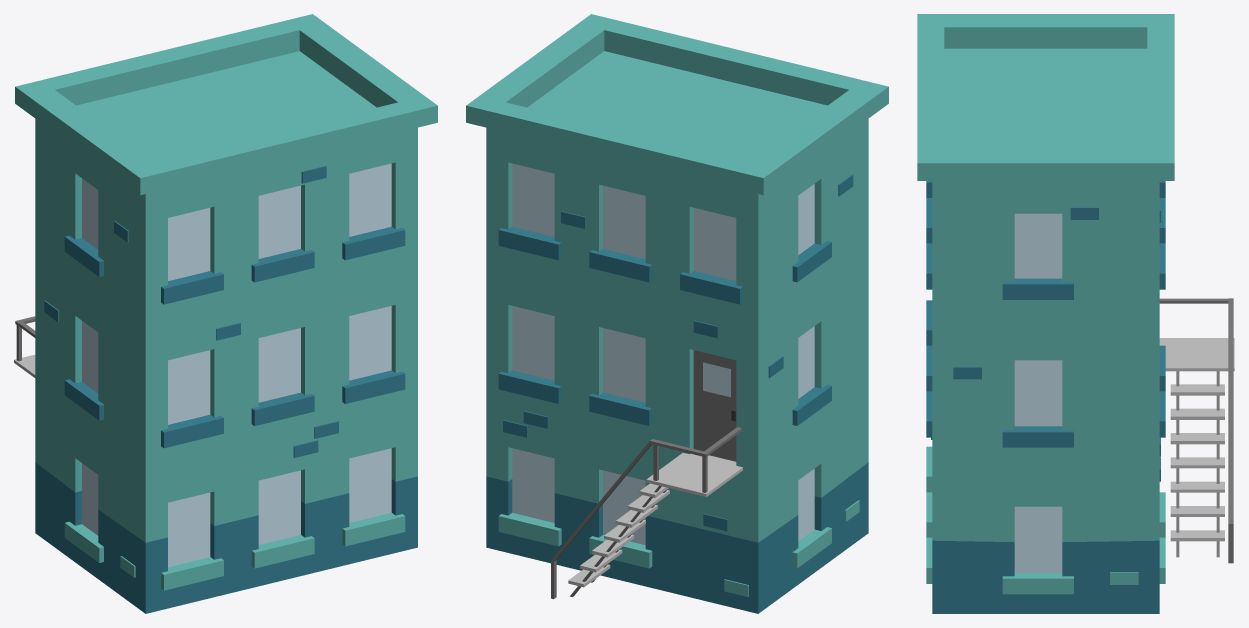
Rendered from Building_3.fbx.
3 renders of one model, left to right at view 1: azimuth 30°, elevation 25°; view 2: azimuth 150°, elevation 25°; view 3: azimuth 270°, elevation 25°, orthographic. The views are drawn at different scales.
Parts seen in each view (by area): view 1: Building_3; view 2: Building_3; view 3: Building_3.
Boxes of the visible parts, x1=… form: Building_3: x1=14, y1=14, x2=437, y2=613; Building_3: x1=466, y1=14, x2=888, y2=613; Building_3: x1=917, y1=14, x2=1234, y2=613.
Size of the model in its own units: 17.5 by 24.96 by 15.72.
Materials: 1 (1 with a texture image).
